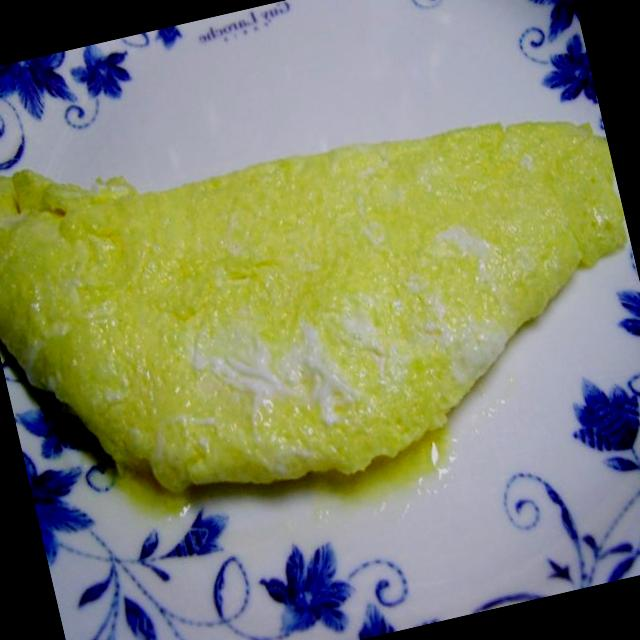Omelet: (0, 17, 640, 560)
